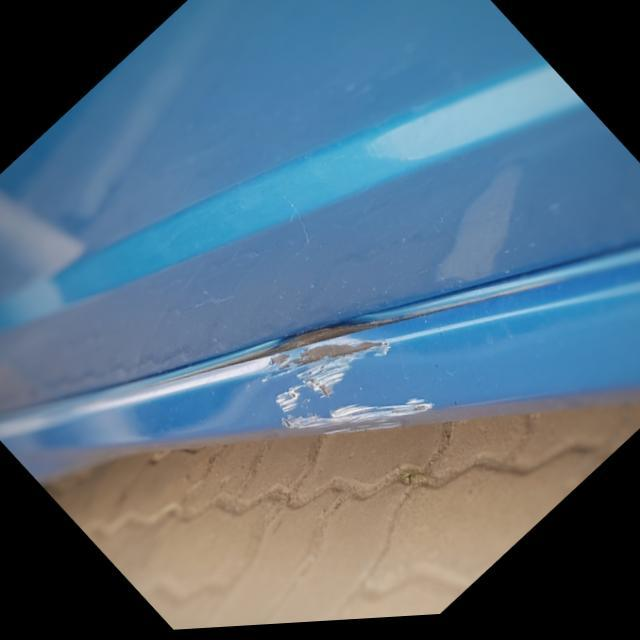scratch: (246, 322, 440, 436)
